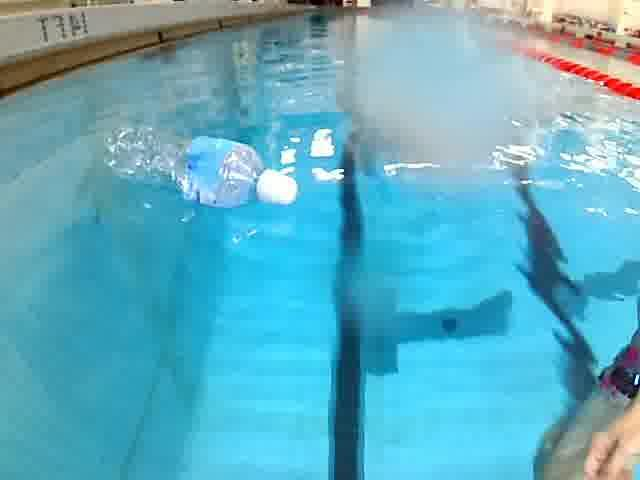Bottle: (101, 119, 302, 219)
